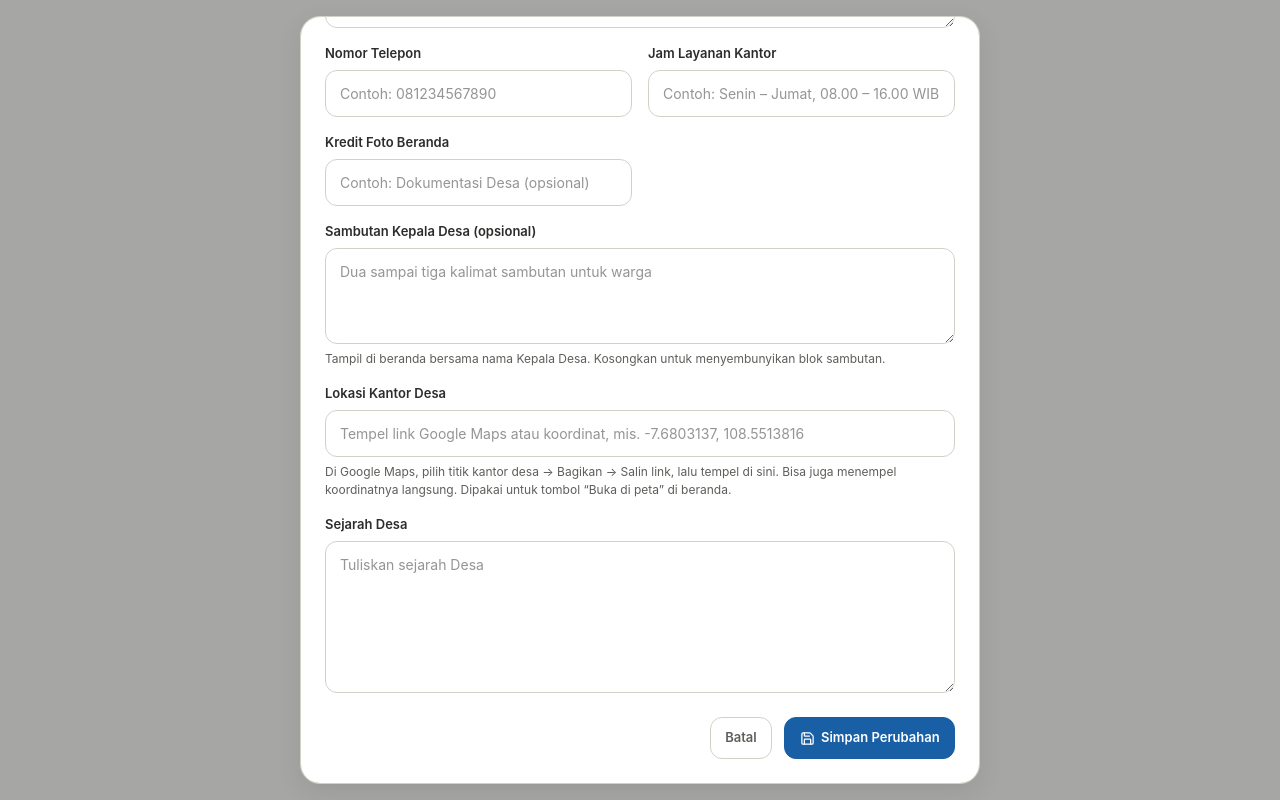
Test: EditProfilDesaModal - lokasi kantor desa › turns a pasted Google Maps link into the office point before saving
(page scrolled)
Click the field labelled "Lokasi Kantor Desa": (640, 434) [325,410,955,457]
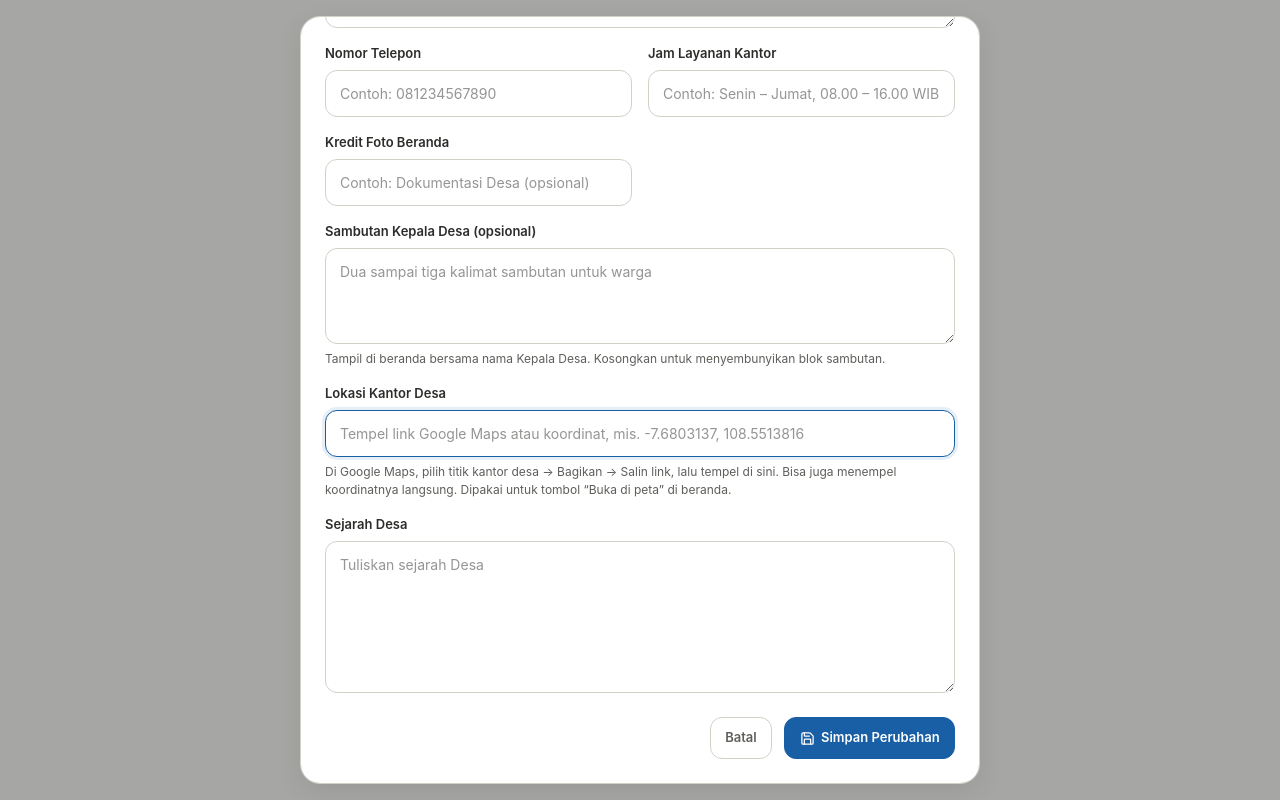
Type keys "https://maps.app.goo.gl/sVU5Xqmasq4UTJ4N6"
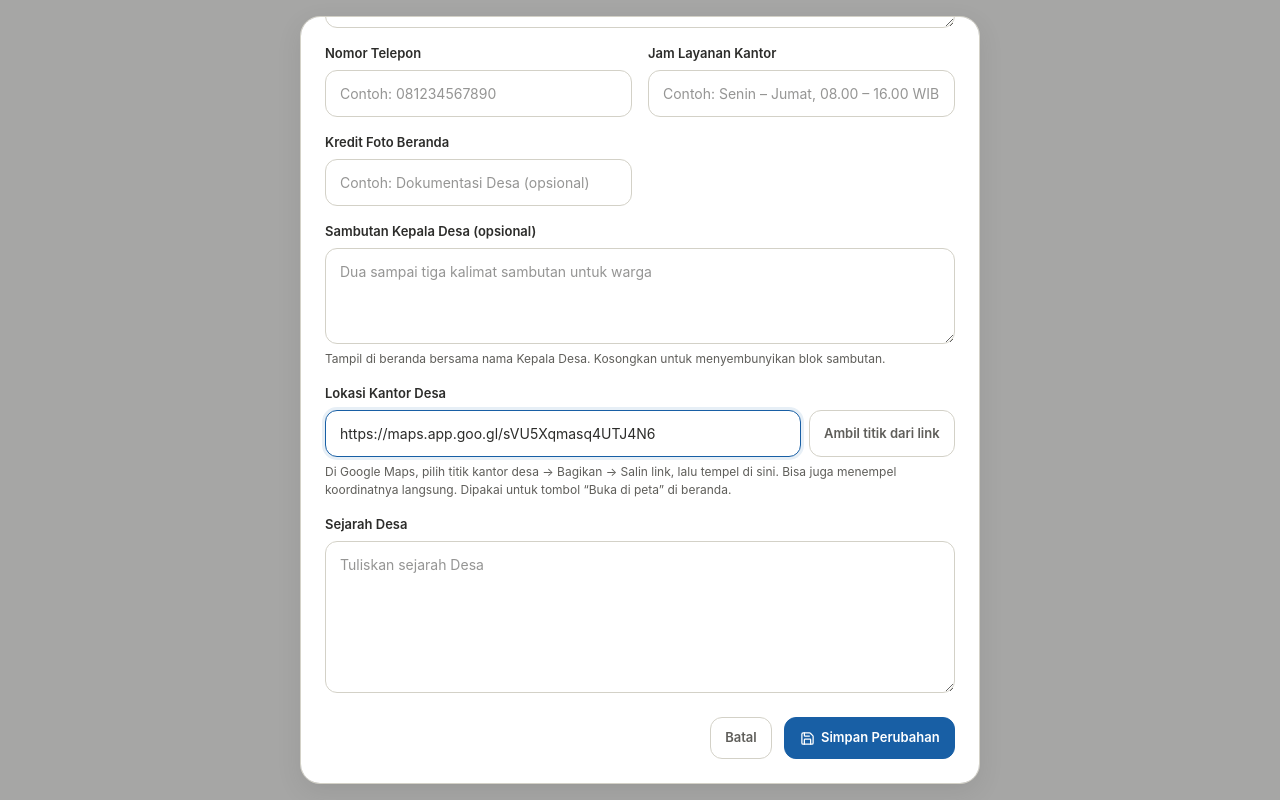
Click the button "Ambil titik dari link": (882, 434) [808,410,955,457]
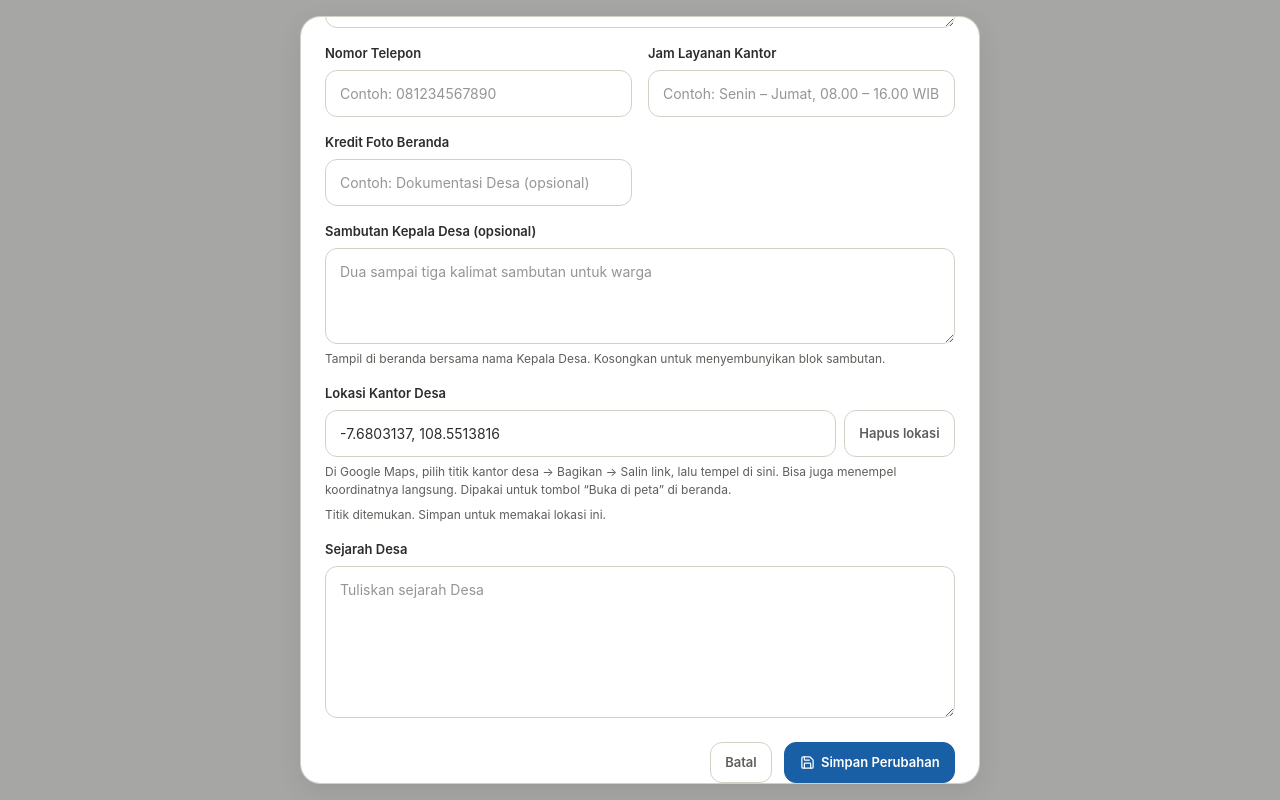
Result: the field labelled "Lokasi Kantor Desa" holds "-7.6803137, 108.5513816" at [325,410,836,457]
Result: the message shows "Titik ditemukan" at [325,507,606,522]
